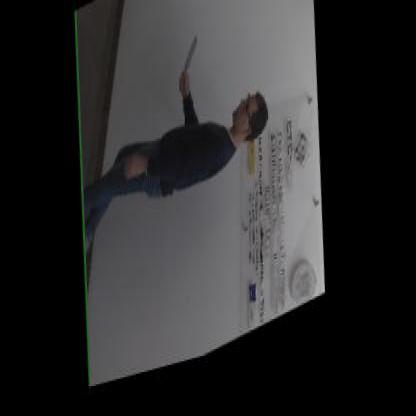knife: (176, 40, 204, 98)
